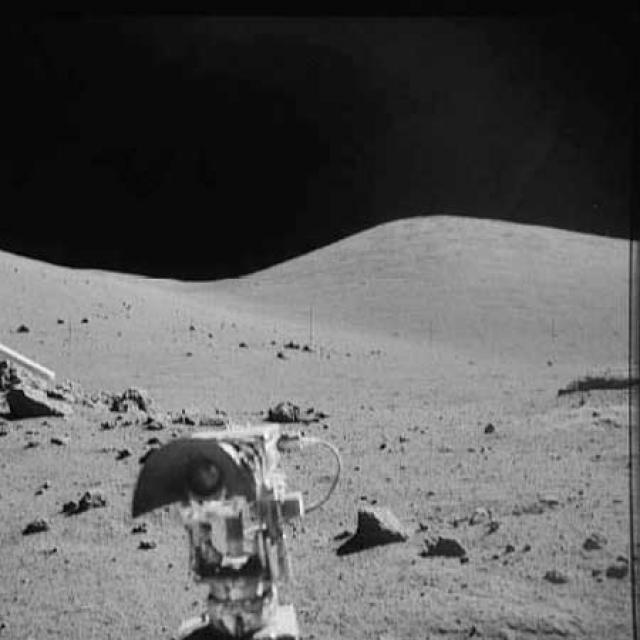artifact: (131, 424, 313, 638)
rock: (342, 495, 410, 555), (94, 372, 158, 430), (7, 378, 73, 424), (560, 361, 640, 397), (64, 474, 113, 522), (256, 388, 308, 425), (18, 506, 56, 537), (428, 532, 467, 559)
